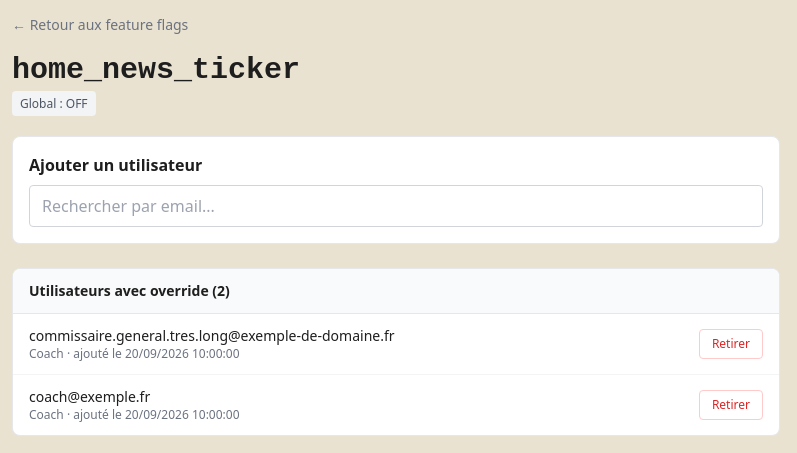
Test: AdminFeatureFlagDetailPage — overrides sur mobile › retire un override
What coordinates should you click on to do the following:
click the 1st button "Retirer"
I would click on:
 (731, 344)
Its box is [699,329,763,359].
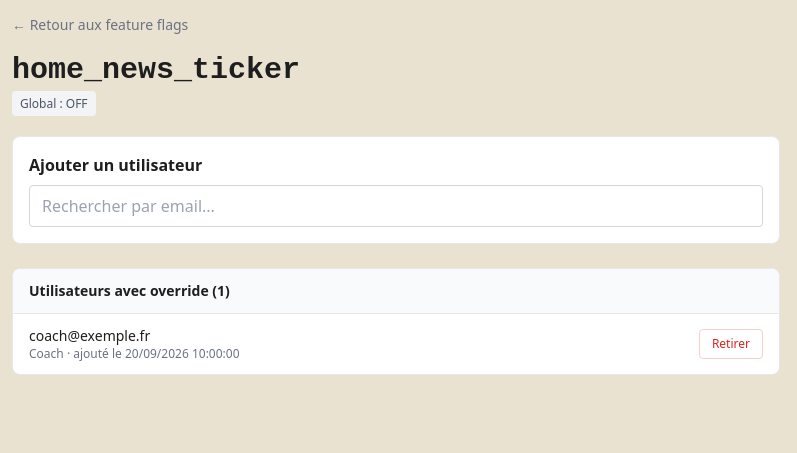
Expected: the list item with test id "flag-override-u2" is shown, [13,314,779,374]
Expected: the list item with test id "flag-override-u1" is gone
